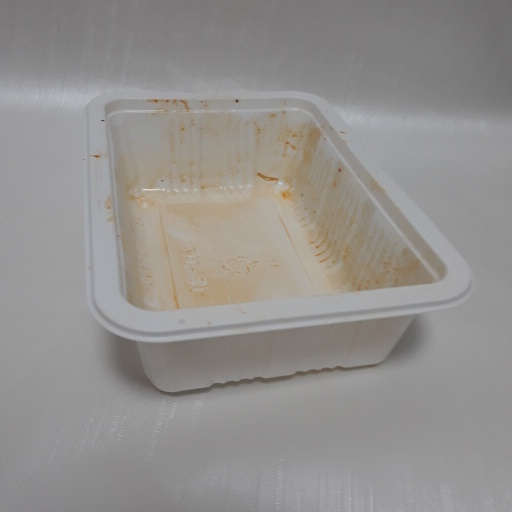Plastic_4: (79, 86, 476, 394)
